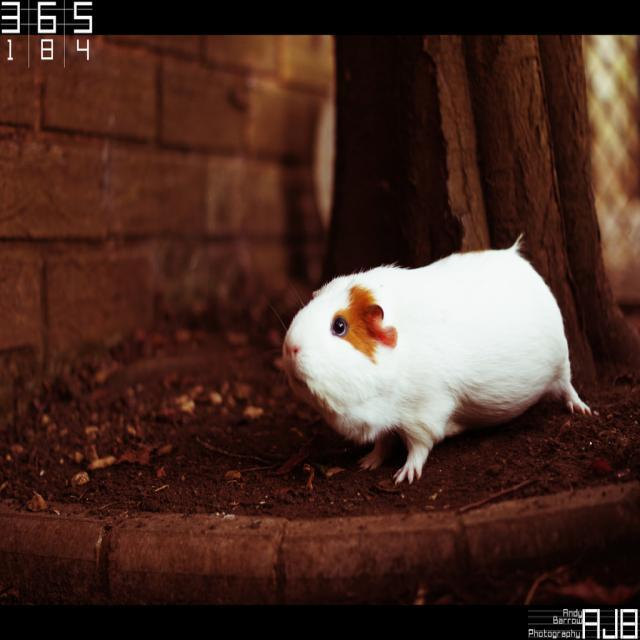rat: (278, 230, 594, 486)
